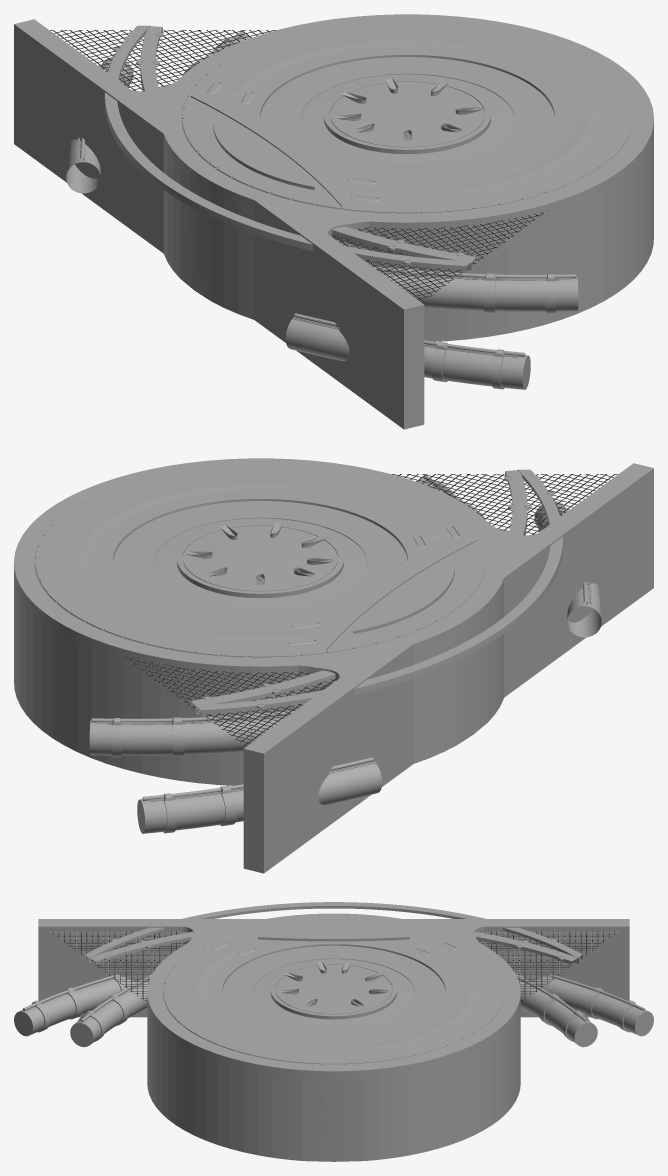
Rendered from Mesh_Enviro_Floor_High.fbx.
3 renders of one model, top to bottom at view 1: azimuth 30°, elevation 25°; view 2: azimuth 150°, elevation 25°; view 3: azimuth 270°, elevation 25°, orthographic. The views are drawn at different scales.
Visible parts, largest first — view 1: group12_pDisc5; view 2: group12_pDisc5; view 3: group12_pDisc5.
Boxes of the visible parts, box(x1,y1,x2,y2) form: group12_pDisc5: box(14, 14, 653, 429); group12_pDisc5: box(14, 458, 653, 873); group12_pDisc5: box(14, 902, 653, 1161).
Bounding box in the file's own units: 819 × 220 × 1299.
